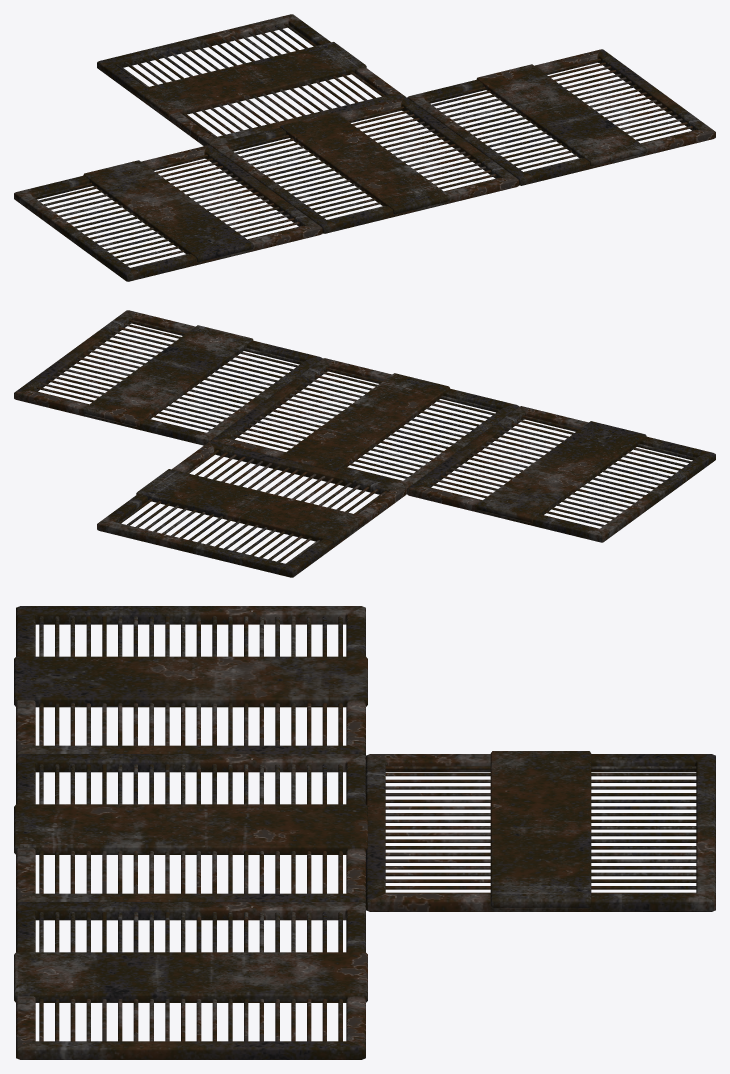
File: Basement_Corridor_A_Floor_Vent_Grill_T_Junction.glb
3 renders of one model, top to bottom at view 1: azimuth 30°, elevation 25°; view 2: azimuth 150°, elevation 25°; view 3: azimuth 270°, elevation 25°, orthographic. The views are drawn at different scales.
Parts seen in each view (by area): view 1: Basement_Corridor_A_Floor_Vent_Grill_T_Junction; view 2: Basement_Corridor_A_Floor_Vent_Grill_T_Junction; view 3: Basement_Corridor_A_Floor_Vent_Grill_T_Junction.
Boxes of the visible parts, <box> form: Basement_Corridor_A_Floor_Vent_Grill_T_Junction: <box>14,14,715,281</box>; Basement_Corridor_A_Floor_Vent_Grill_T_Junction: <box>14,310,715,577</box>; Basement_Corridor_A_Floor_Vent_Grill_T_Junction: <box>14,606,715,1059</box>.
Bounding box in the file's own units: 4 × 0.0585 × 2.67.
1 material, 1 textured.
